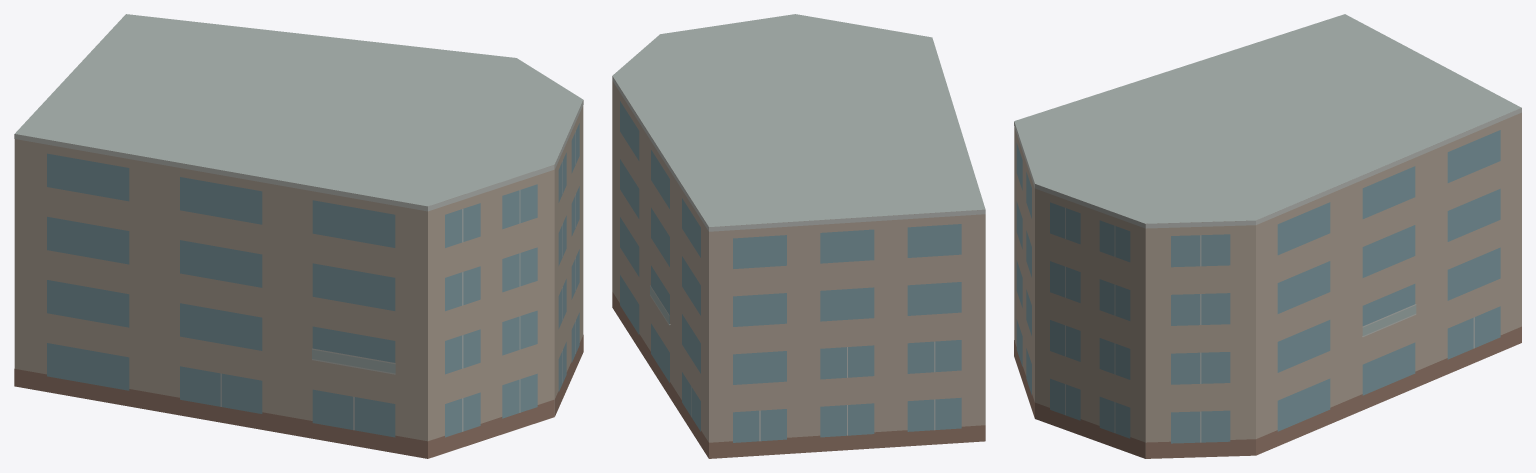
File: residential-eb330160-4968-4ee7-9fbe-df7e3a5ea487.glb
The picture shows the model from 3 angles, left to right: view 1: azimuth 30°, elevation 25°; view 2: azimuth 150°, elevation 25°; view 3: azimuth 270°, elevation 25°; orthographic projection. The views are drawn at different scales.
Visible parts, largest first — view 1: residential-eb330160-4968-4ee7-9fbe-df7e3a5ea487.tmp; view 2: residential-eb330160-4968-4ee7-9fbe-df7e3a5ea487.tmp; view 3: residential-eb330160-4968-4ee7-9fbe-df7e3a5ea487.tmp.
Part boxes in pixels (x1=…): residential-eb330160-4968-4ee7-9fbe-df7e3a5ea487.tmp: x1=14, y1=14, x2=583, y2=458; residential-eb330160-4968-4ee7-9fbe-df7e3a5ea487.tmp: x1=612, y1=14, x2=985, y2=458; residential-eb330160-4968-4ee7-9fbe-df7e3a5ea487.tmp: x1=1014, y1=14, x2=1521, y2=458.
Size of the model in its own units: 23.36 by 12.2 by 23.89.
